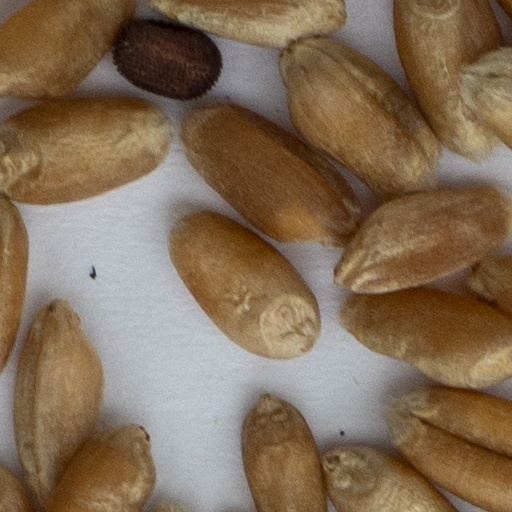Agrostemma-poly: (115, 20, 219, 98)
